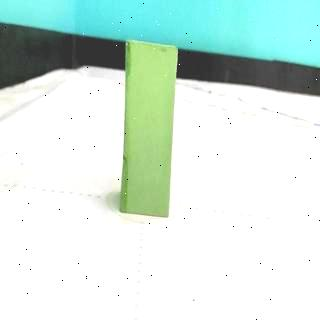greenbox: (122, 29, 178, 220)
